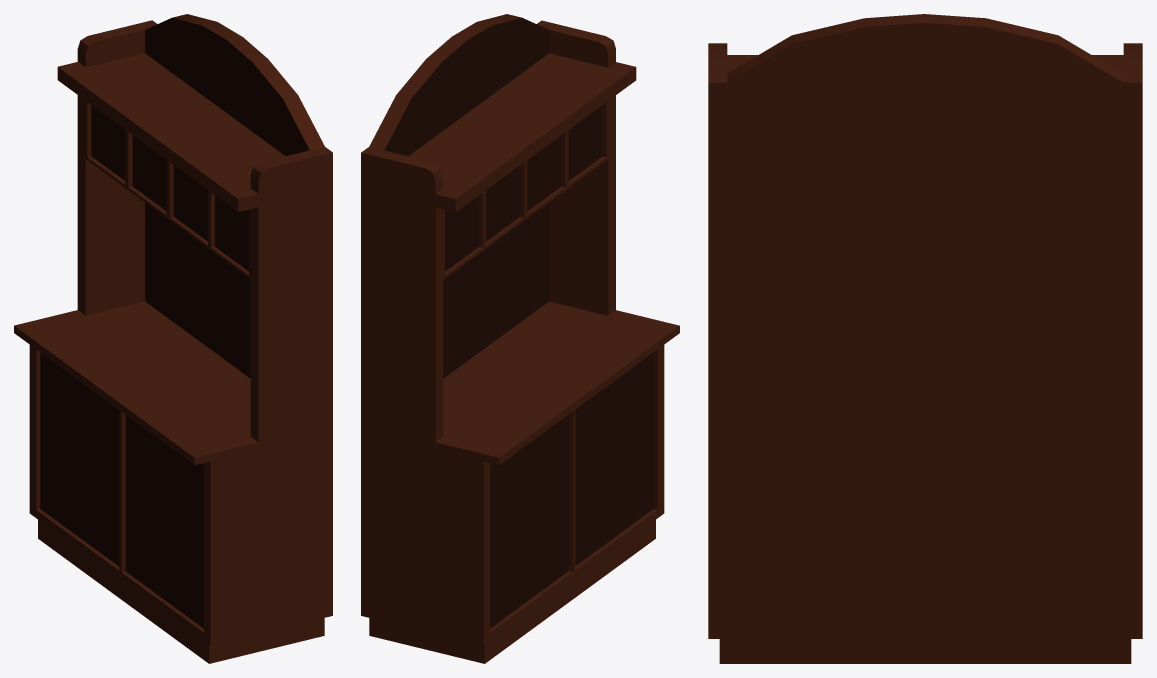
The model's file is skaf.FBX.
The picture shows the model from 3 angles, left to right: view 1: azimuth 30°, elevation 25°; view 2: azimuth 150°, elevation 25°; view 3: azimuth 270°, elevation 25°; orthographic projection. The views are drawn at different scales.
Visible parts, largest first — view 1: Box041; view 2: Box041; view 3: Box041.
Boxes of the visible parts, x1,y1,x2,y2 form: Box041: (14, 14, 332, 663); Box041: (361, 14, 679, 663); Box041: (708, 14, 1142, 663).
Bounding box in the file's own units: 597 × 2209 × 1351.
